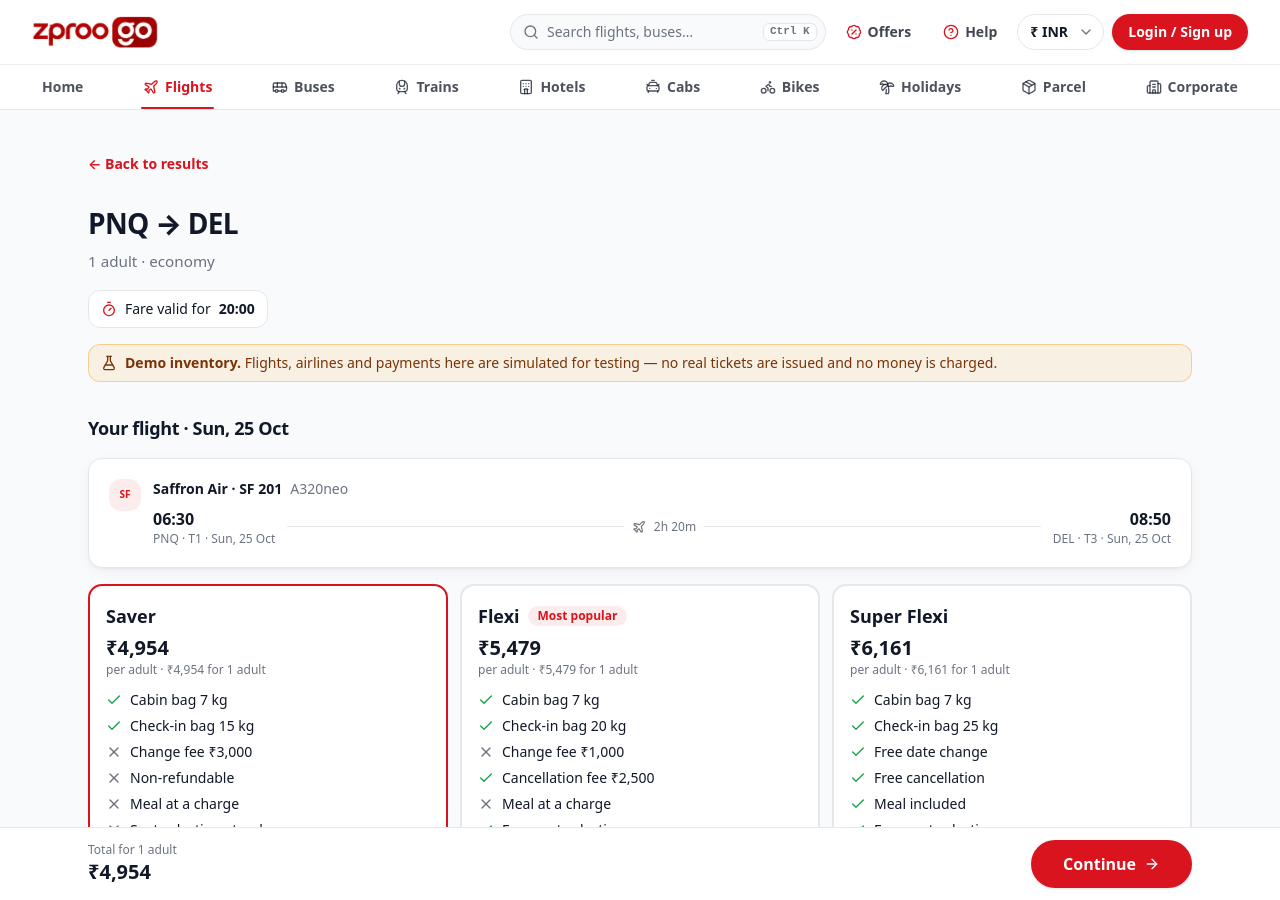
it: fare selection › chooses a fare family and deep-logs-in guests with the draft
The image size is (1280, 900).
Expected: the text "Most popular" is shown, [528,606,627,626]
Expected: the element with test id "flight-fare-timer" reads "Fare valid for 20:00", [88,290,268,328]
Click the radio button with test id "flight-fare-fare_a1b2c3_flexi".
click(499, 616)  # box [460,584,820,884]
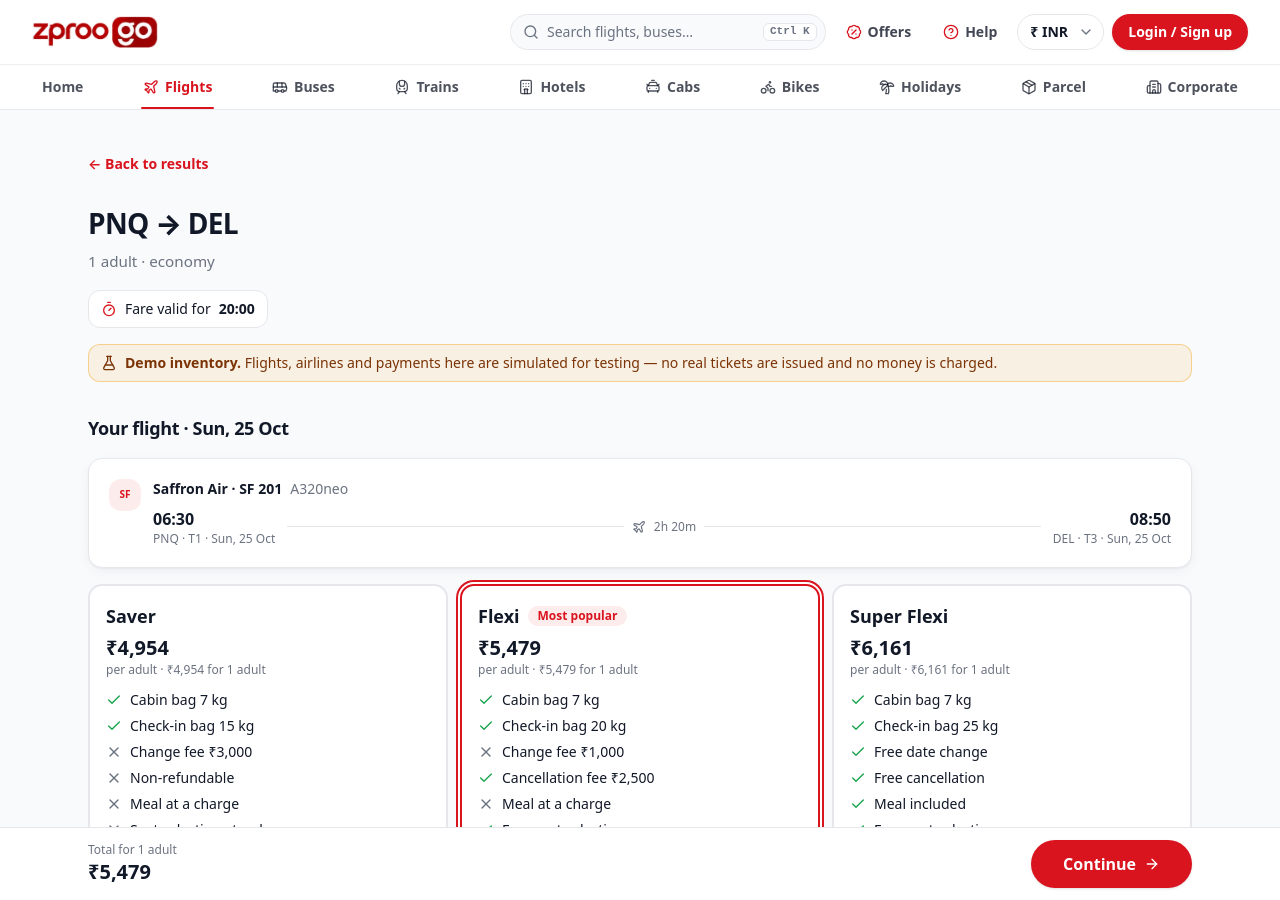
Now the text with test id "flight-fare-total" reads "₹5,479", box [88,858,151,885]
Click the button with test id "flight-continue".
click(1112, 864)  # box [1031,840,1192,888]
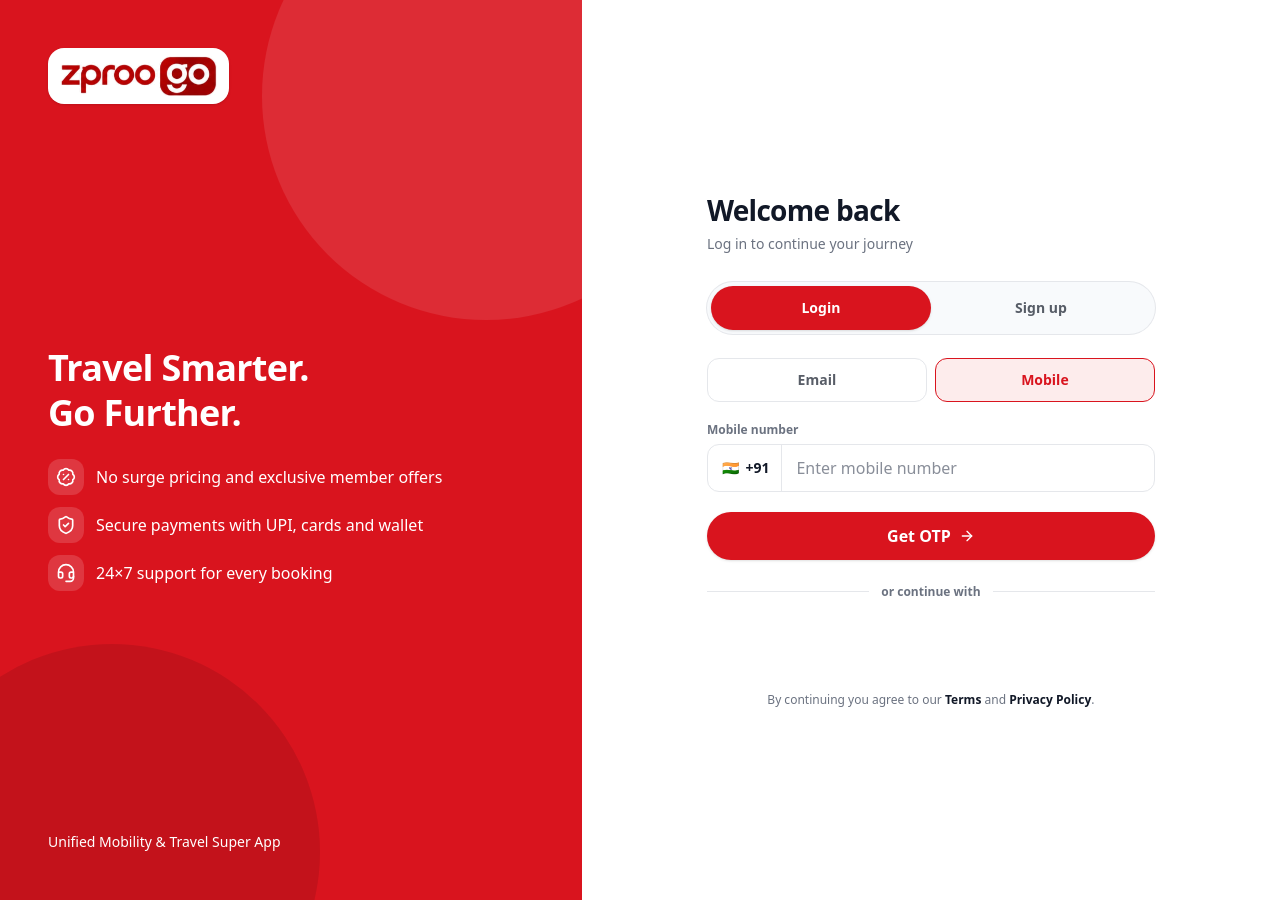
Now the heading "Welcome back" is shown, box [707,190,900,228]
